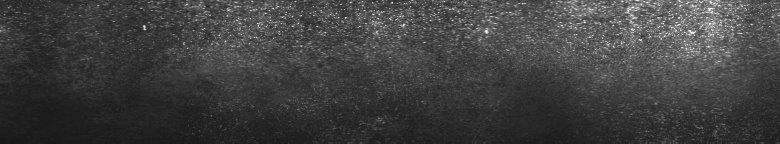kb: (436, 4, 776, 136)
